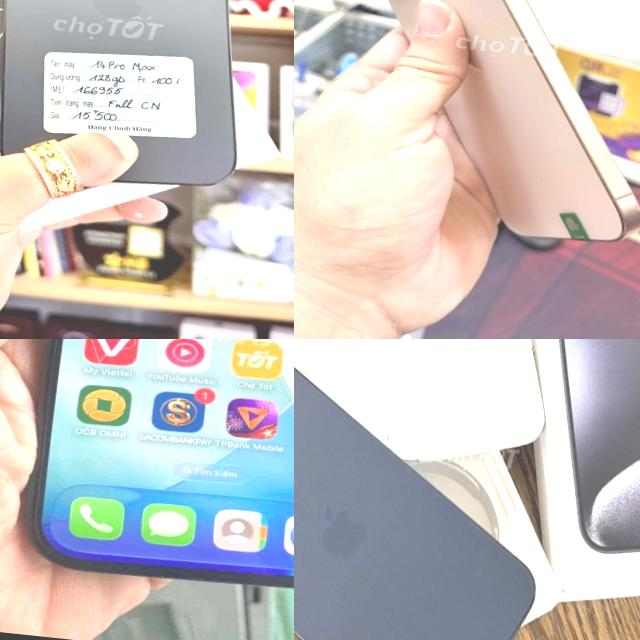gen_14: (0, 0, 269, 199)
gen_15: (294, 339, 562, 640), (7, 339, 294, 611)
gen_16: (442, 0, 640, 239)
